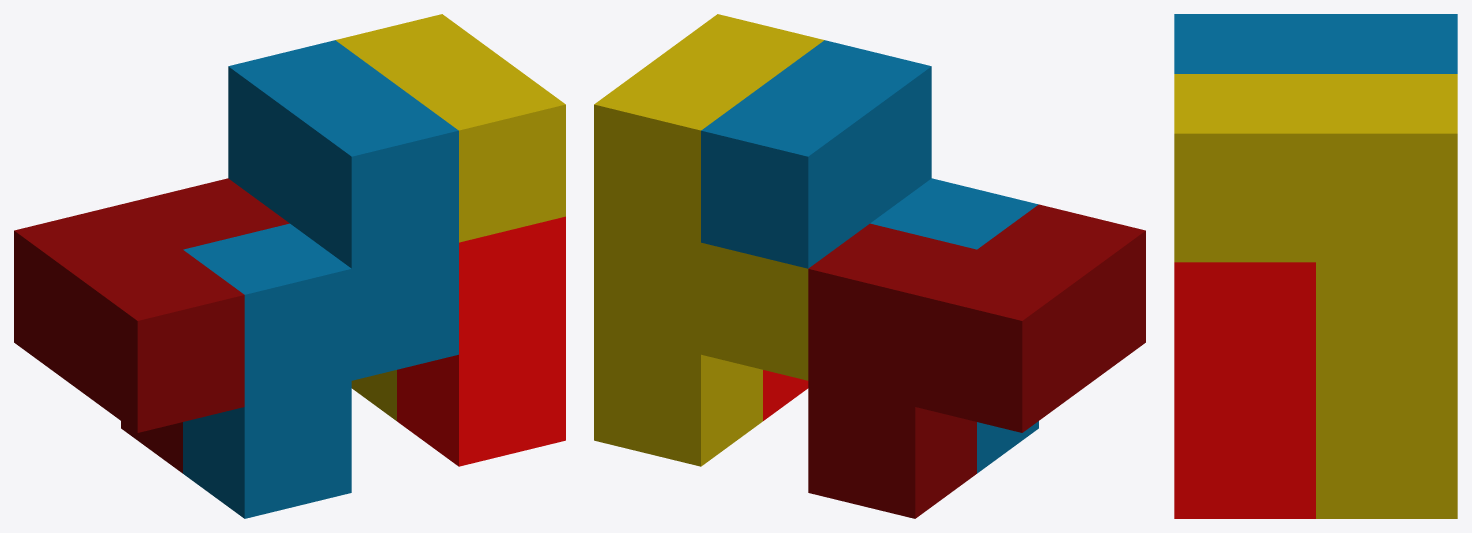
The picture shows the model from 3 angles, left to right: view 1: azimuth 30°, elevation 25°; view 2: azimuth 150°, elevation 25°; view 3: azimuth 270°, elevation 25°; orthographic projection. The views are drawn at different scales.
Visible parts, largest first — view 1: mergedBlocks(Clone); view 2: mergedBlocks(Clone); view 3: mergedBlocks(Clone).
Boxes of the visible parts, left/top/right/bottom form: mergedBlocks(Clone): left=14, top=14, right=565, bottom=518; mergedBlocks(Clone): left=594, top=14, right=1145, bottom=518; mergedBlocks(Clone): left=1174, top=14, right=1457, bottom=518.
Size of the model in its own units: 4 by 3 by 2.
4 materials, 4 textured.
